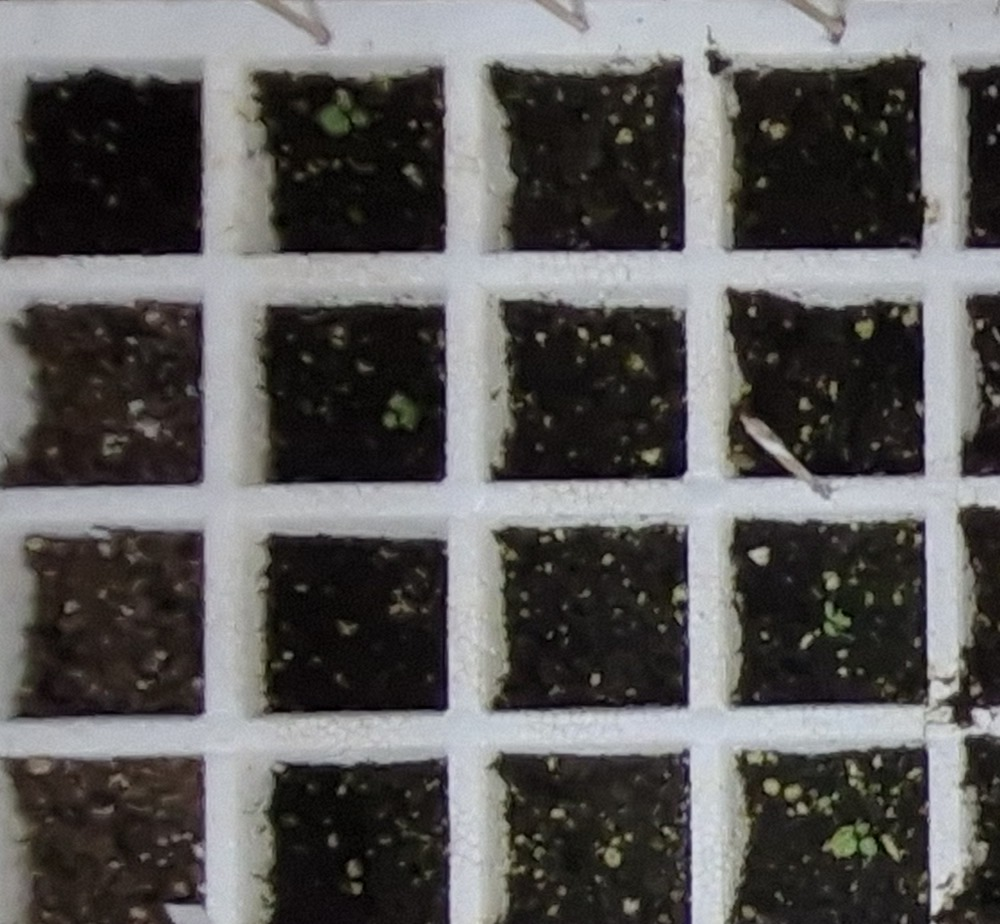Folha: (826, 823, 858, 858), (319, 105, 350, 135), (391, 391, 415, 428), (828, 608, 851, 626), (380, 412, 397, 431), (862, 837, 878, 855), (340, 90, 353, 110), (823, 620, 838, 636), (856, 822, 874, 834), (349, 113, 369, 123)
Germinacao: (315, 86, 367, 132), (830, 822, 878, 857), (379, 396, 417, 431), (824, 613, 853, 638)
